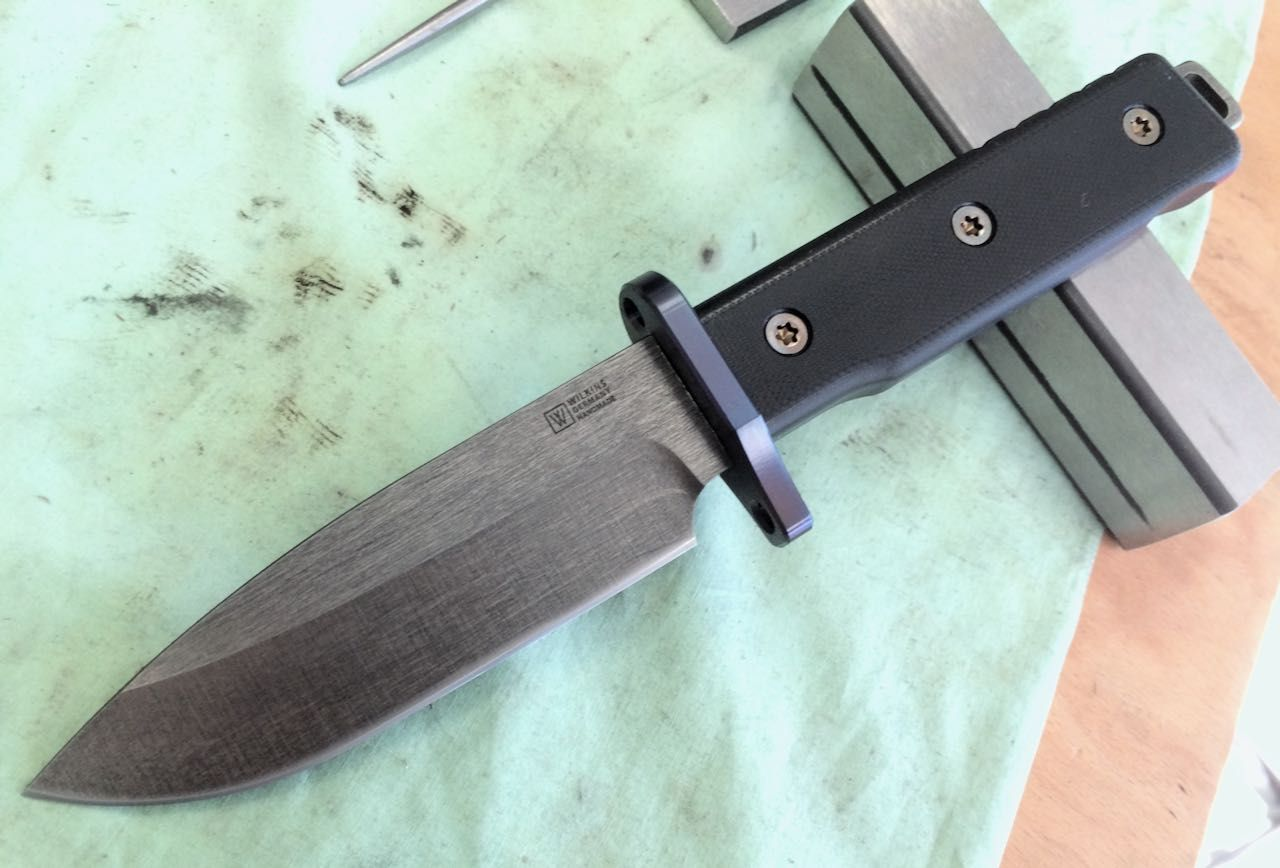knife: (18, 37, 1251, 838)
